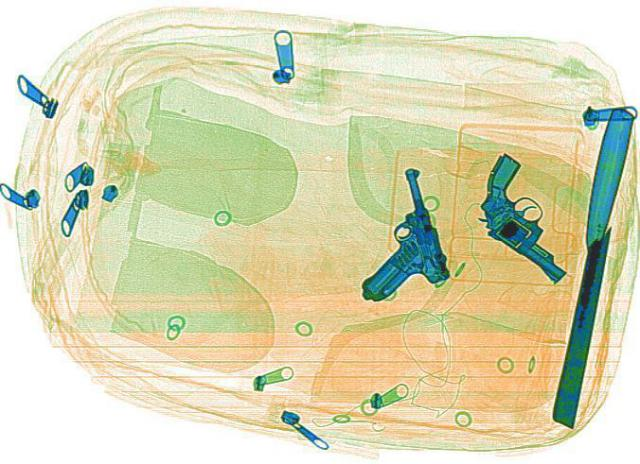Gun: (430, 148, 626, 282), (316, 164, 464, 302)
Knife: (545, 106, 635, 426)
